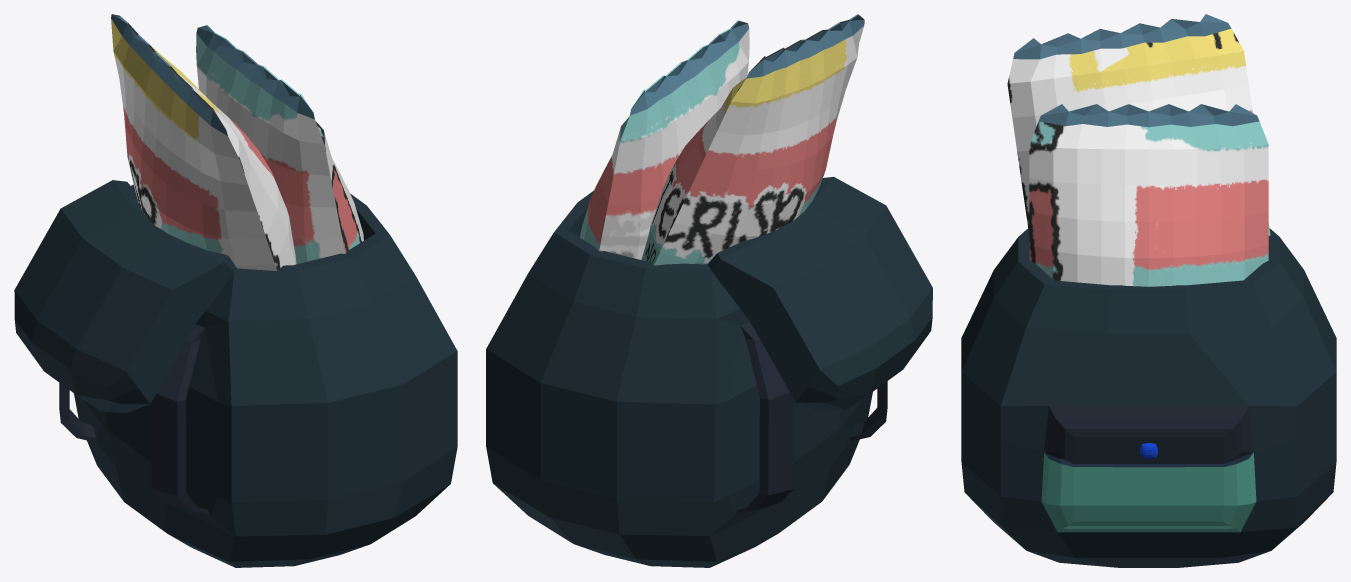
Rendered from Bag.Chip.fbx.
The picture shows the model from 3 angles, left to right: view 1: azimuth 30°, elevation 25°; view 2: azimuth 150°, elevation 25°; view 3: azimuth 270°, elevation 25°; orthographic projection. The views are drawn at different scales.
Visible parts, largest first — view 1: Bag.Chip; view 2: Bag.Chip; view 3: Bag.Chip.
Part boxes in pixels (x1=…): Bag.Chip: x1=14, y1=14, x2=457, y2=567; Bag.Chip: x1=486, y1=14, x2=932, y2=567; Bag.Chip: x1=961, y1=14, x2=1336, y2=567.
Size of the model in its own units: 70.39 by 95.08 by 68.84.
